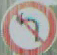Don't turn left: (2, 1, 50, 54)
